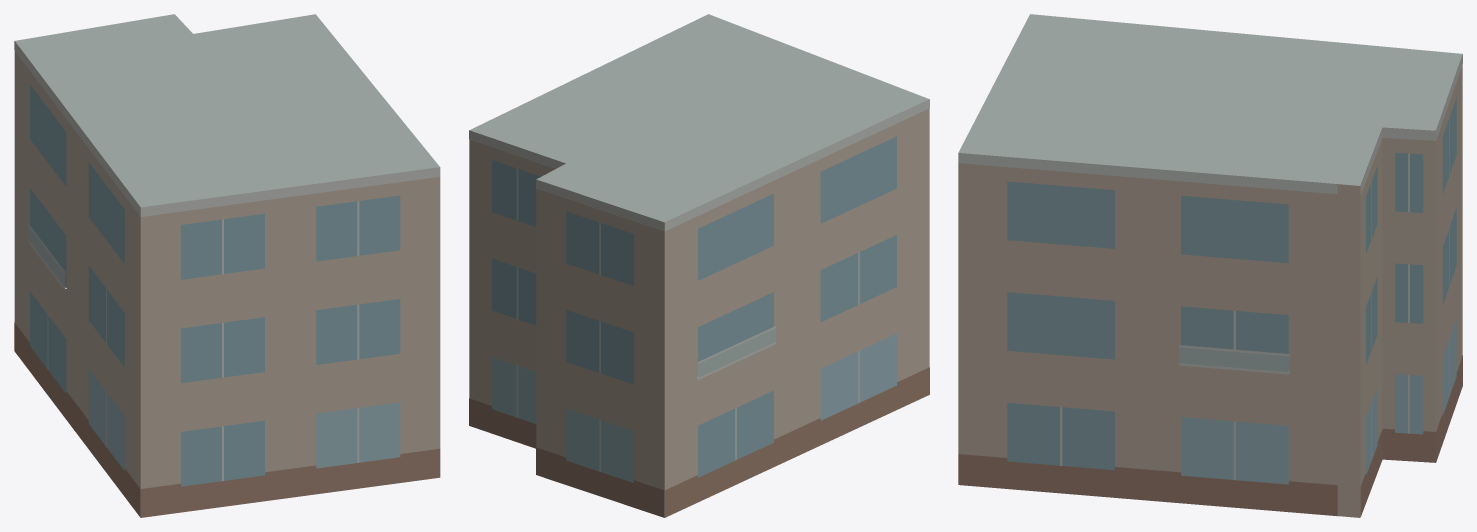
The model's file is survey-upis-32677923.glb.
The picture shows the model from 3 angles, left to right: view 1: azimuth 30°, elevation 25°; view 2: azimuth 150°, elevation 25°; view 3: azimuth 270°, elevation 25°; orthographic projection. The views are drawn at different scales.
Parts seen in each view (by area): view 1: survey-upis-32677923.tmp; view 2: survey-upis-32677923.tmp; view 3: survey-upis-32677923.tmp.
Boxes of the visible parts, <box> form: survey-upis-32677923.tmp: <box>14,14,440,517</box>; survey-upis-32677923.tmp: <box>469,14,929,517</box>; survey-upis-32677923.tmp: <box>958,14,1462,517</box>.
Size of the model in its own units: 8.78 by 7.9 by 10.89.
